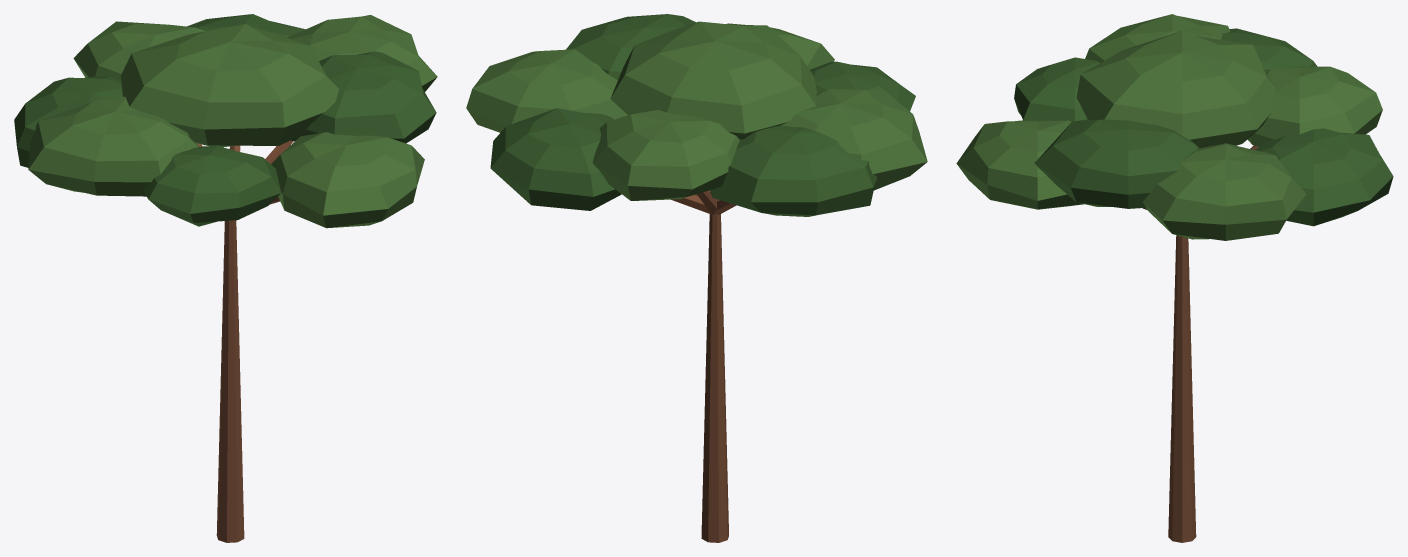
The model's file is tree_stone_pine_small.glb.
3 renders of one model, left to right at view 1: azimuth 30°, elevation 25°; view 2: azimuth 150°, elevation 25°; view 3: azimuth 270°, elevation 25°, orthographic. The views are drawn at different scales.
Visible parts, largest first — view 1: tree_stone_pine_small; view 2: tree_stone_pine_small; view 3: tree_stone_pine_small.
Part boxes in pixels (x1,y1,x2,y2): tree_stone_pine_small: [14, 14, 437, 542]; tree_stone_pine_small: [466, 14, 927, 542]; tree_stone_pine_small: [956, 14, 1393, 542].
Bounding box in the file's own units: 3.68 × 4.22 × 3.45.
